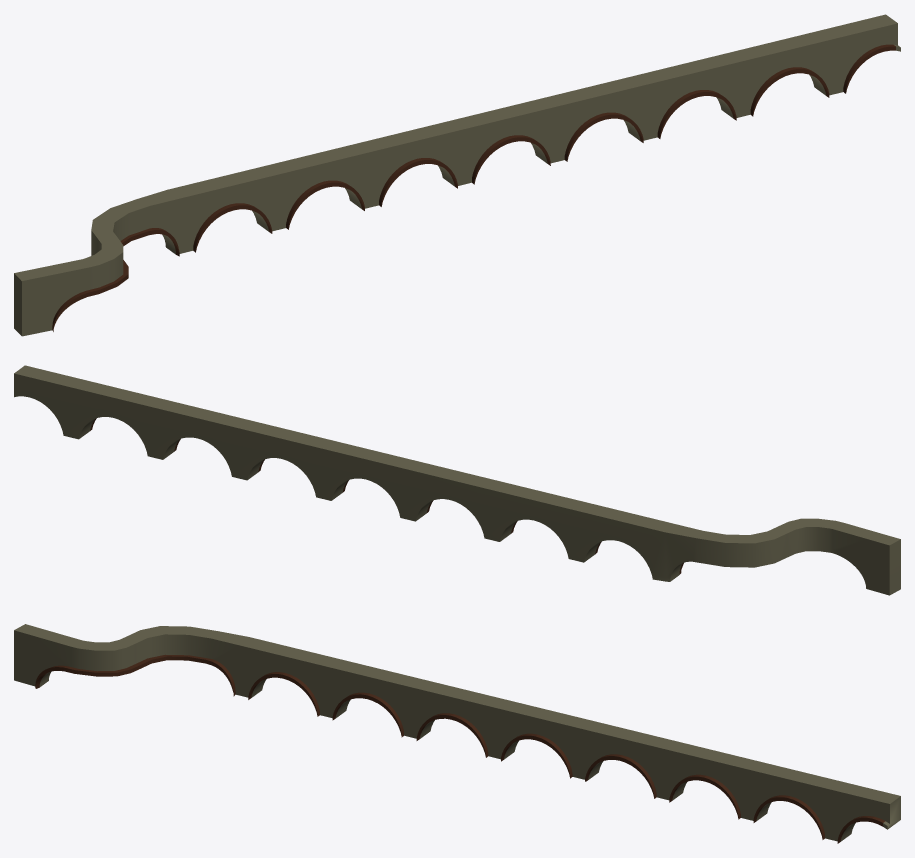
Rendered from archs.fbx.
The picture shows the model from 3 angles, top to bottom: view 1: azimuth 30°, elevation 25°; view 2: azimuth 150°, elevation 25°; view 3: azimuth 330°, elevation 25°; orthographic projection. The views are drawn at different scales.
Visible parts, largest first — view 1: Cube.041 (×2); view 2: Cube.041; view 3: Cube.041 (×2).
Boxes of the visible parts, <box> form: Cube.041 (×2): <box>14,14,900,336</box>; Cube.041: <box>14,365,900,595</box>; Cube.041 (×2): <box>14,624,900,843</box>.
Bounding box in the file's own units: 24111 × 1384 × 2840.
